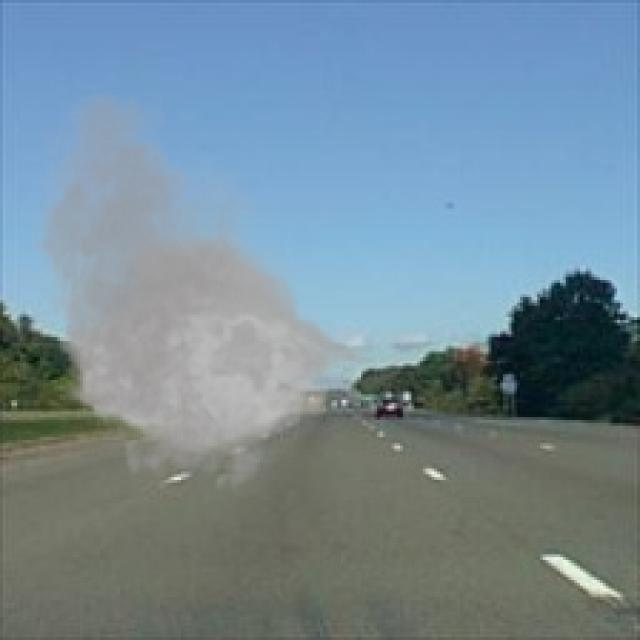smoke: (20, 86, 386, 503)
